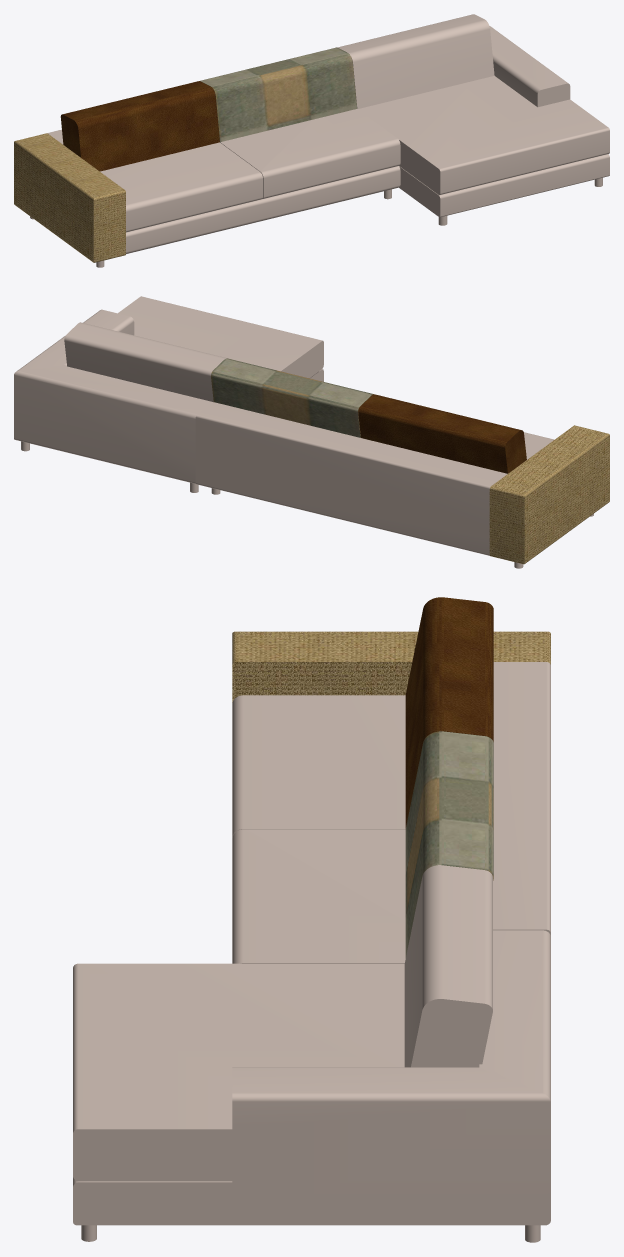
File: 12sofa_w350_h76_d152_699KB.glb
The picture shows the model from 3 angles, top to bottom: view 1: azimuth 30°, elevation 25°; view 2: azimuth 150°, elevation 25°; view 3: azimuth 270°, elevation 25°; orthographic projection. The views are drawn at different scales.
Parts seen in each view (by area): view 1: root; view 2: root; view 3: root.
Part boxes in pixels (bbox=[...]): root: bbox=[14, 14, 609, 267]; root: bbox=[14, 296, 609, 568]; root: bbox=[73, 597, 550, 1242].
Size of the model in its own units: 3.5 by 0.7533 by 1.52.
4 materials, 3 textured.
